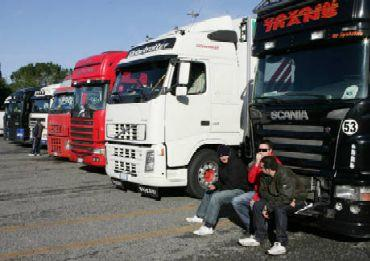truck: (235, 0, 370, 241), (106, 15, 268, 204), (70, 51, 121, 170), (48, 73, 87, 161), (30, 83, 60, 152), (3, 88, 33, 148)
